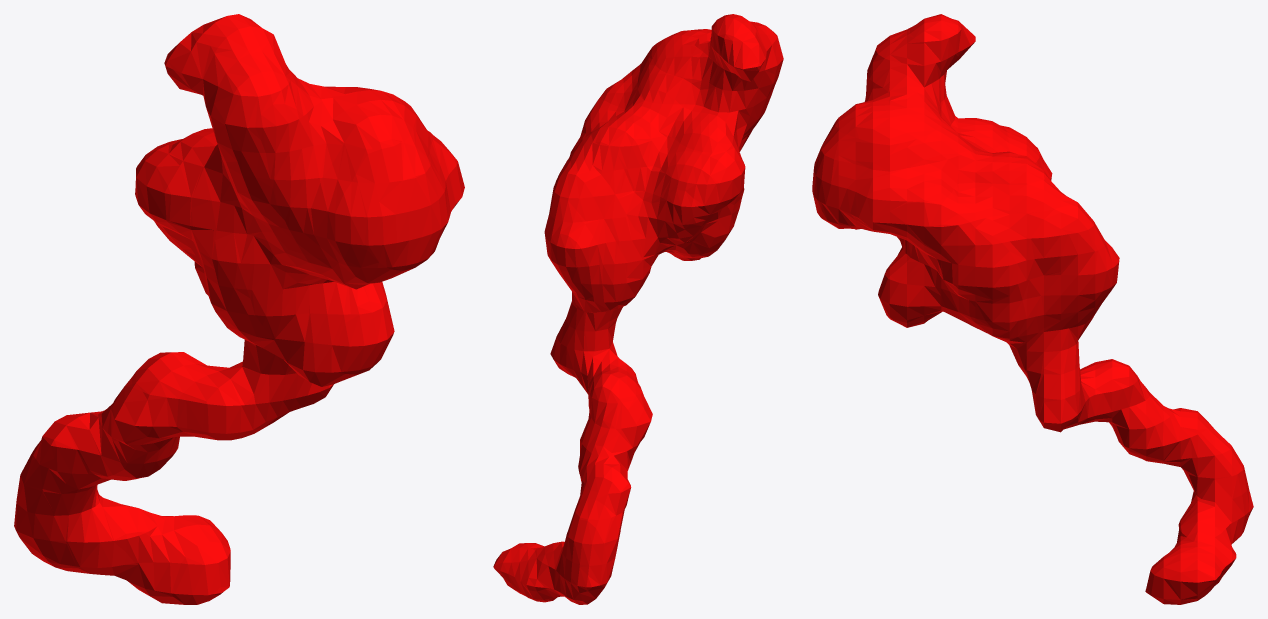
Rendered from flhC_coarse.dae.
3 views of the same model, side by side, from view 1: azimuth 30°, elevation 25°; view 2: azimuth 150°, elevation 25°; view 3: azimuth 270°, elevation 25° (orthographic). The views are drawn at different scales.
Parts seen in each view (by area): view 1: flhC; view 2: flhC; view 3: flhC.
Boxes of the visible parts, left/top/right/bottom form: flhC: left=14, top=14, right=464, bottom=604; flhC: left=493, top=14, right=783, bottom=604; flhC: left=812, top=14, right=1253, bottom=604.
Bounding box in the file's own units: 38.33 × 105 × 77.22.
